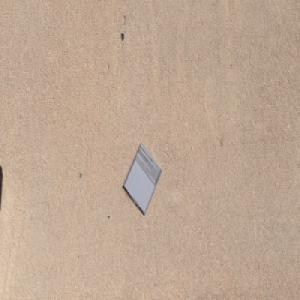PlasticPart: (122, 141, 163, 215)
